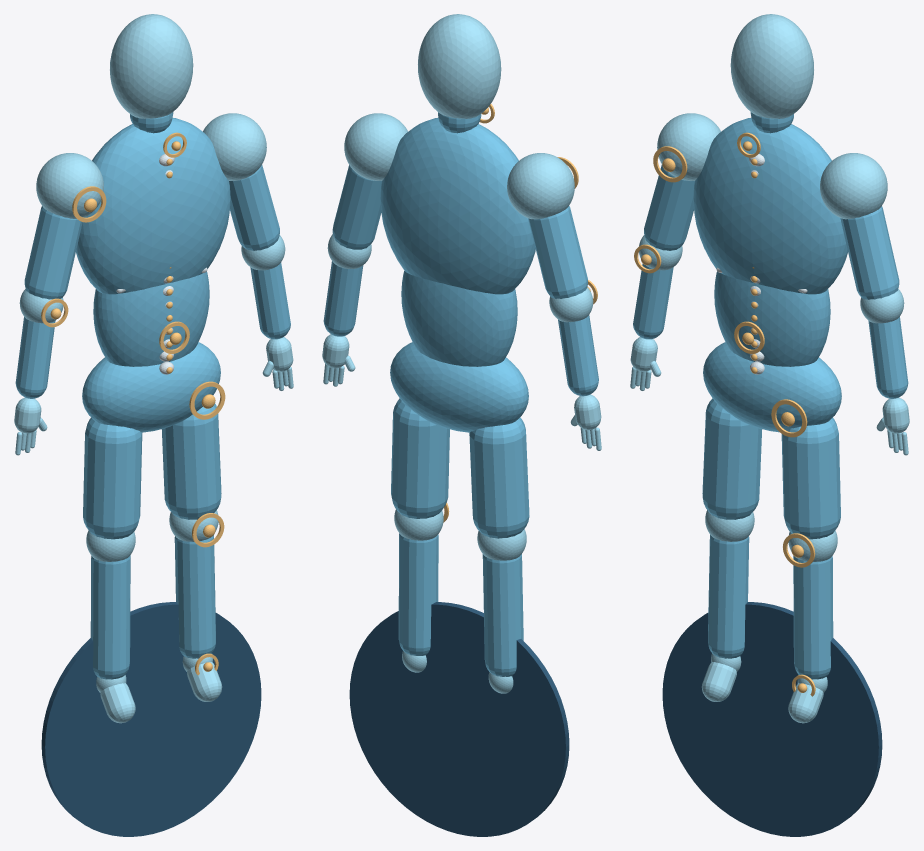
The model's file is gabriel_fisioterapia_modelo_anatomico_3d (1).glb.
The picture shows the model from 3 angles, left to right: view 1: azimuth 30°, elevation 25°; view 2: azimuth 150°, elevation 25°; view 3: azimuth 330°, elevation 25°; orthographic projection.
Visible parts, largest first — view 1: Base de apresentação, Tórax, Pelve, Abdômen, Cabeça - volume anatômico, Coxa esquerda, Coxa direita, Perna inferior esquerda, Perna inferior direita, Braço superior esquerdo, Ombro esquerdo, Braço superior direito (+13 smaller); view 2: Base de apresentação, Tórax, Abdômen, Pelve, Cabeça - volume anatômico, Coxa esquerda, Coxa direita, Perna inferior esquerda, Perna inferior direita, Braço superior esquerdo, Ombro esquerdo, Ombro direito (+10 smaller); view 3: Base de apresentação, Tórax, Pelve, Abdômen, Cabeça - volume anatômico, Coxa direita, Coxa esquerda, Perna inferior esquerda, Perna inferior direita, Braço superior direito, Ombro direito, Braço superior esquerdo (+13 smaller).
Boxes of the visible parts, <box> form: Base de apresentação: <box>41,602,261,836</box>; Tórax: <box>76,118,230,294</box>; Pelve: <box>82,342,220,432</box>; Abdômen: <box>93,271,209,366</box>; Cabeça - volume anatômico: <box>110,14,193,118</box>; Coxa esquerda: <box>83,417,142,539</box>; Coxa direita: <box>162,403,221,519</box>; Perna inferior esquerda: <box>90,555,130,679</box>; Perna inferior direita: <box>174,535,215,658</box>; Braço superior esquerdo: <box>24,206,82,299</box>; Ombro esquerdo: <box>36,153,103,218</box>; Braço superior direito: <box>229,165,279,250</box>; Base de apresentação: <box>349,602,569,836</box>; Tórax: <box>380,118,535,294</box>; Abdômen: <box>401,271,517,366</box>; Pelve: <box>390,342,528,432</box>; Cabeça - volume anatômico: <box>418,14,501,118</box>; Coxa esquerda: <box>469,417,529,538</box>; Coxa direita: <box>391,398,449,518</box>; Perna inferior esquerda: <box>482,554,523,676</box>; Perna inferior direita: <box>398,533,438,655</box>; Braço superior esquerdo: <box>528,205,587,298</box>; Ombro esquerdo: <box>507,153,574,219</box>; Ombro direito: <box>344,113,408,180</box>; Base de apresentação: <box>662,602,882,836</box>; Tórax: <box>693,118,847,294</box>; Pelve: <box>703,342,841,432</box>; Abdômen: <box>714,271,830,366</box>; Cabeça - volume anatômico: <box>730,14,813,118</box>; Coxa direita: <box>781,417,840,539</box>; Coxa esquerda: <box>702,398,761,519</box>; Perna inferior esquerda: <box>708,534,749,658</box>; Perna inferior direita: <box>793,556,833,679</box>; Braço superior direito: <box>840,206,899,299</box>; Ombro direito: <box>820,153,887,219</box>; Braço superior esquerdo: <box>644,165,694,250</box>.
Size of the model in its own units: 3.21 by 9.01 by 0.97.
